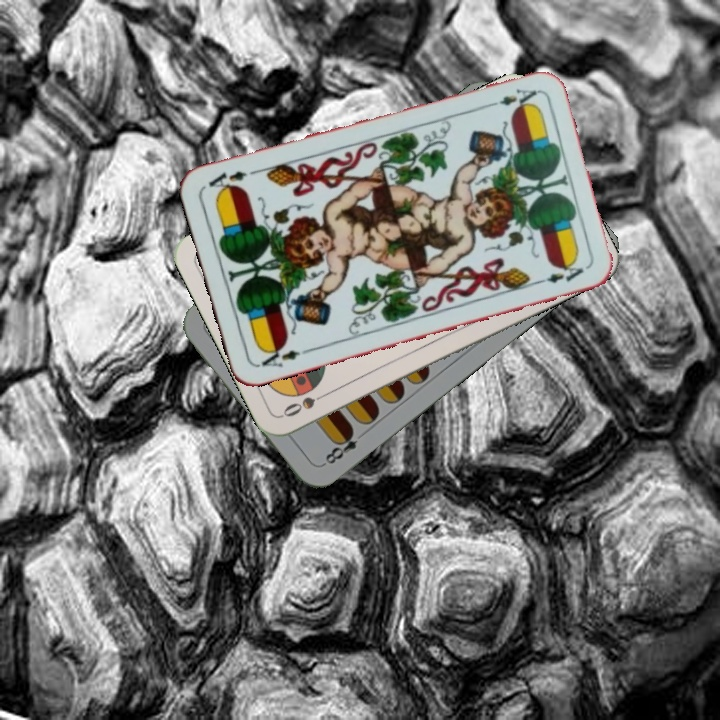E8: (318, 425, 361, 469)
EA: (255, 341, 313, 370), (481, 84, 540, 110)
SO: (278, 386, 334, 420)
